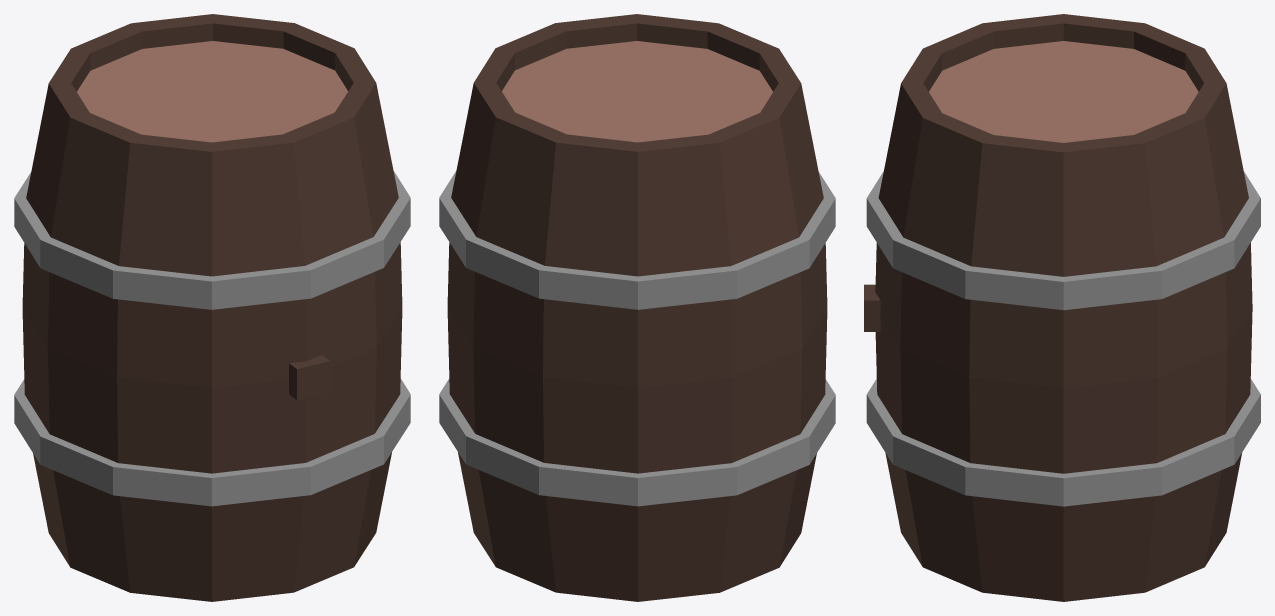
The model's file is Barrel_04.glb.
3 renders of one model, left to right at view 1: azimuth 30°, elevation 25°; view 2: azimuth 150°, elevation 25°; view 3: azimuth 270°, elevation 25°, orthographic.
Visible parts, largest first — view 1: Barrel_4_mesh; view 2: Barrel_4_mesh; view 3: Barrel_4_mesh.
Part boxes in pixels (bbox=[...]): Barrel_4_mesh: bbox=[14, 14, 410, 601]; Barrel_4_mesh: bbox=[439, 14, 835, 601]; Barrel_4_mesh: bbox=[864, 14, 1260, 601].
Size of the model in its own units: 0.72 by 0.9 by 0.72.
Materials: 2 (2 with a texture image).
